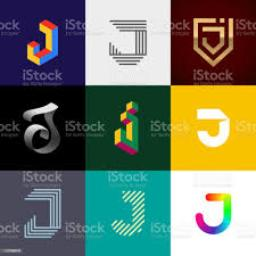j: (14, 98, 84, 170), (104, 12, 166, 80), (105, 96, 159, 162), (15, 182, 75, 240), (15, 12, 73, 70), (189, 101, 245, 157), (192, 188, 248, 244), (102, 186, 158, 242)
